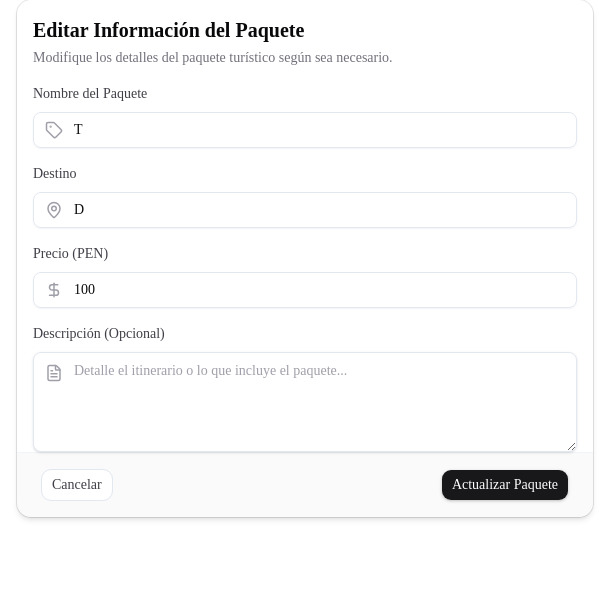
PackageForm › muestra error genérico si ocurre una excepción
This screenshot has width=611, height=600.
Click the button "Actualizar Paquete" at (505, 485), box [441, 469, 569, 501]
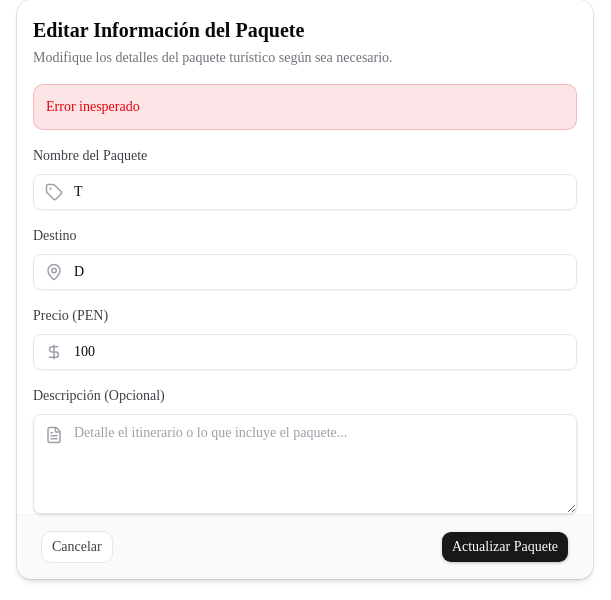
Expected: the text "Error inesperado" is shown, [33, 84, 577, 130]
